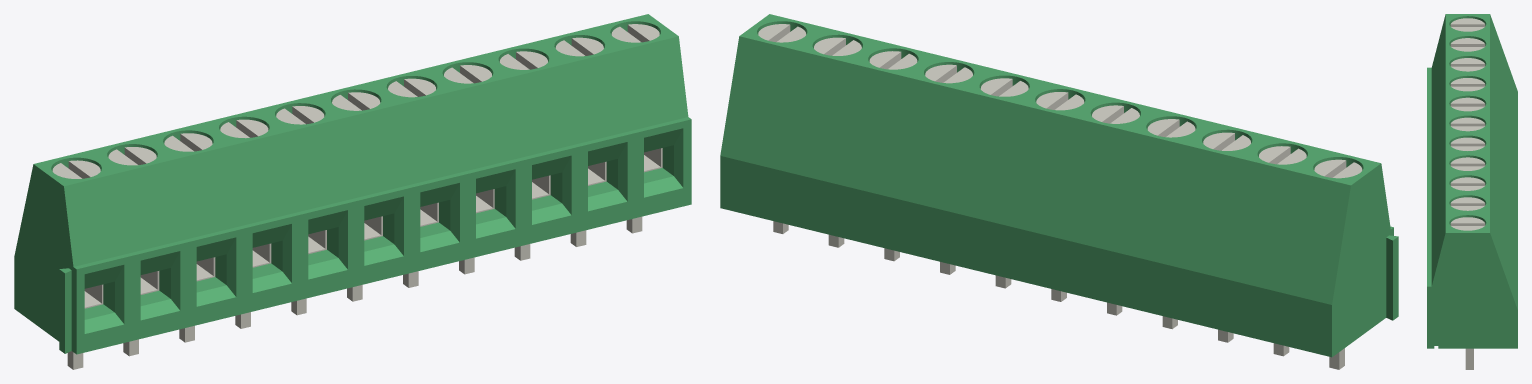
File: kc-terminalblock_phoenix_mkds-1_5-11-5.08_1x11_p5.08mm_horizontal.glb
3 renders of one model, left to right at view 1: azimuth 30°, elevation 25°; view 2: azimuth 150°, elevation 25°; view 3: azimuth 270°, elevation 25°, orthographic. The views are drawn at different scales.
Visible parts, largest first — view 1: 0.08333333333333333_0.4166666666666667_0.16666666666666666_0, 0.6666666666666666_0.6666666666666666_0.5833333333333334_0.8; view 2: 0.08333333333333333_0.4166666666666667_0.16666666666666666_0, 0.6666666666666666_0.6666666666666666_0.5833333333333334_0.8; view 3: 0.08333333333333333_0.4166666666666667_0.16666666666666666_0, 0.6666666666666666_0.6666666666666666_0.5833333333333334_0.8.
Part boxes in pixels (x1,y1,x2,y2): 0.08333333333333333_0.4166666666666667_0.16666666666666666_0: [14, 14, 691, 354]; 0.6666666666666666_0.6666666666666666_0.5833333333333334_0.8: [52, 24, 662, 369]; 0.08333333333333333_0.4166666666666667_0.16666666666666666_0: [720, 14, 1398, 357]; 0.6666666666666666_0.6666666666666666_0.5833333333333334_0.8: [758, 24, 1362, 369]; 0.08333333333333333_0.4166666666666667_0.16666666666666666_0: [1427, 14, 1517, 348]; 0.6666666666666666_0.6666666666666666_0.5833333333333334_0.8: [1450, 18, 1485, 369].
Size of the model in its own units: 5.66 by 1.73 by 0.9801.
